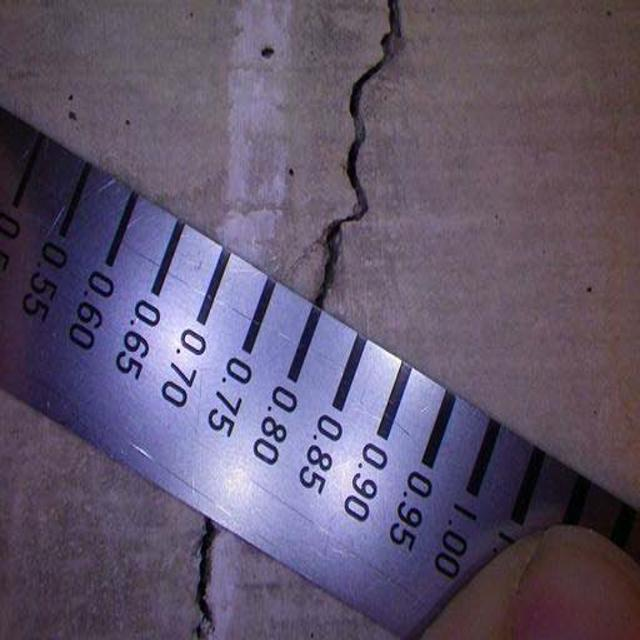crack: (306, 2, 424, 304), (168, 505, 261, 640)
